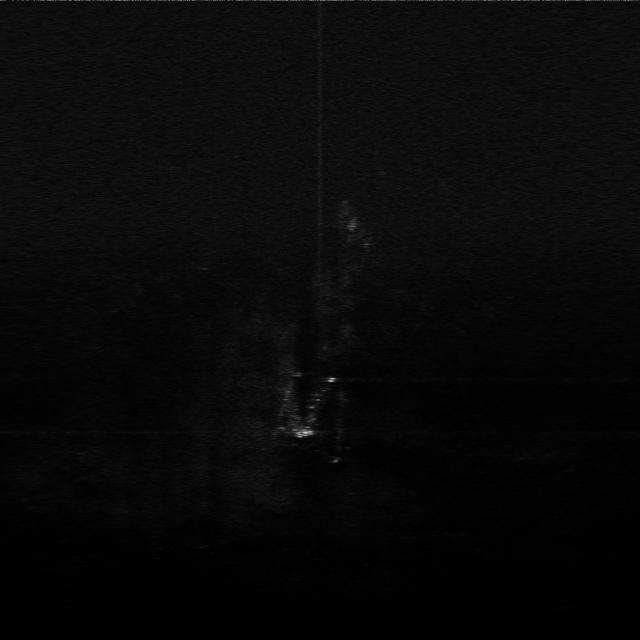rov: (291, 424, 318, 442)
